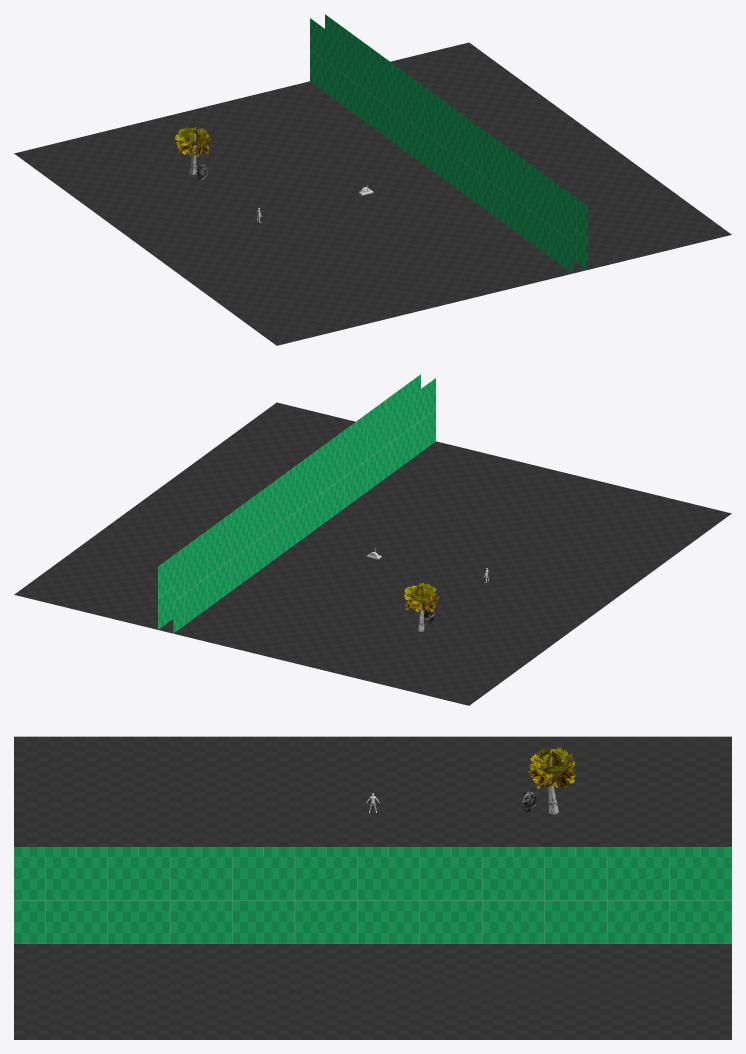
The model's file is MAP_BETA1.5.glb.
3 views of the same model, one above another, from view 1: azimuth 30°, elevation 25°; view 2: azimuth 150°, elevation 25°; view 3: azimuth 270°, elevation 25° (orthographic). The views are drawn at different scales.
Parts seen in each view (by area): view 1: Floor, Beeg Wall, Birch Tree; view 2: Floor, Beeg Wall, Birch Tree; view 3: Floor, Beeg Wall, Birch Tree.
Part boxes in pixels (x1,y1,x2,y2): Floor: (14,42,731,345); Beeg Wall: (310,14,587,273); Birch Tree: (175,127,211,175); Floor: (14,402,731,705); Beeg Wall: (158,374,435,633); Birch Tree: (403,583,438,631); Floor: (14,736,731,1039); Beeg Wall: (14,847,731,943); Birch Tree: (528,747,576,814).
Size of what is drawn, in the model's own units: 60 by 8.2 by 60.
Materials: 6 (5 with a texture image).
